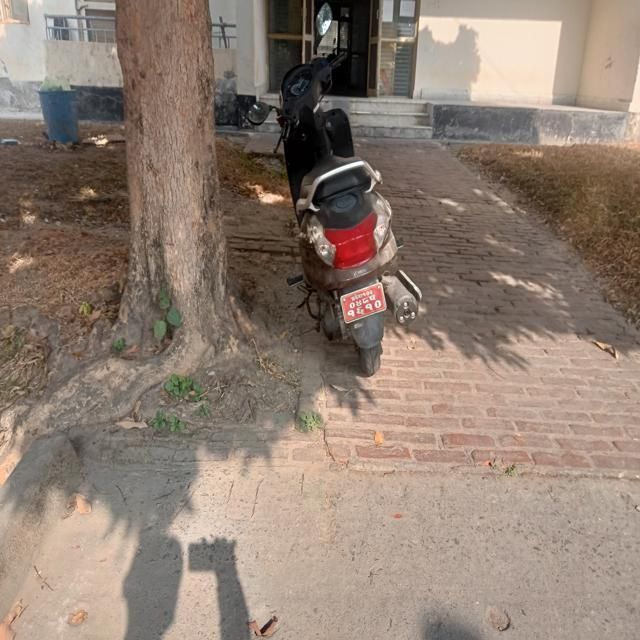license_plate: (324, 264, 396, 344)
